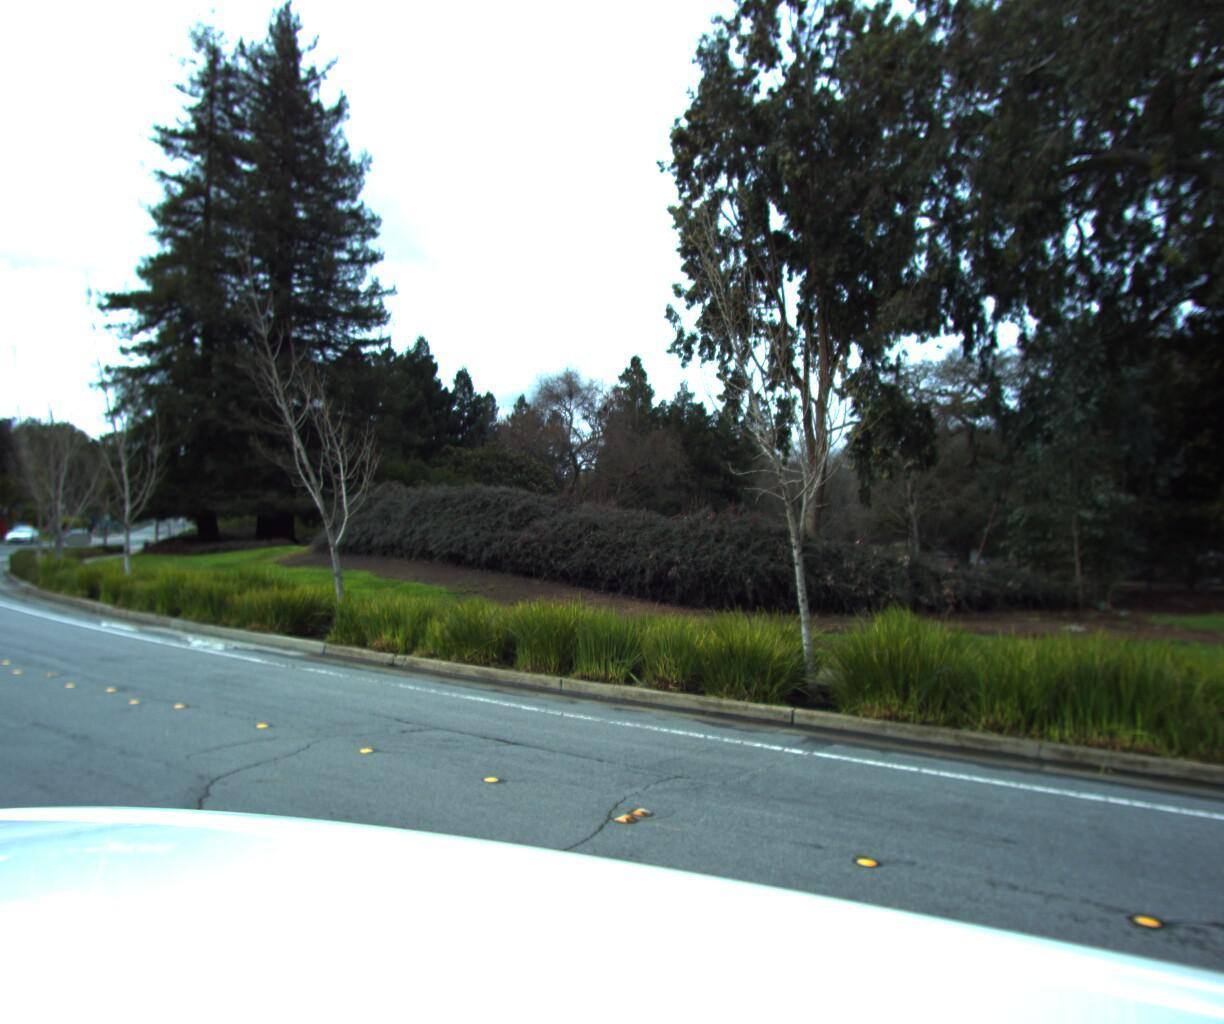car: (3, 524, 42, 546)
